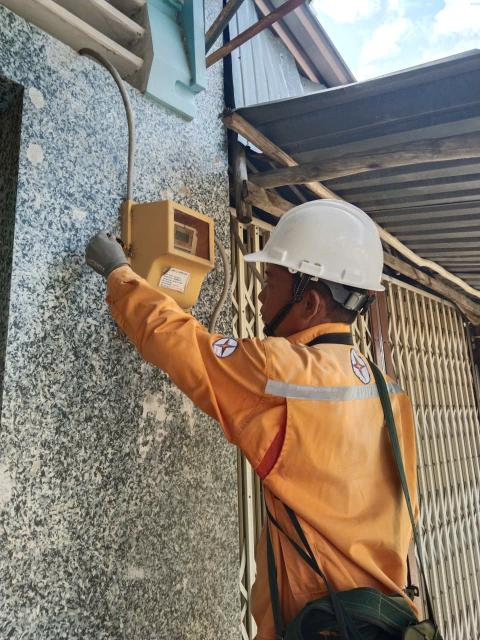gloves: (58, 215, 140, 277)
helmet: (241, 193, 417, 299)
